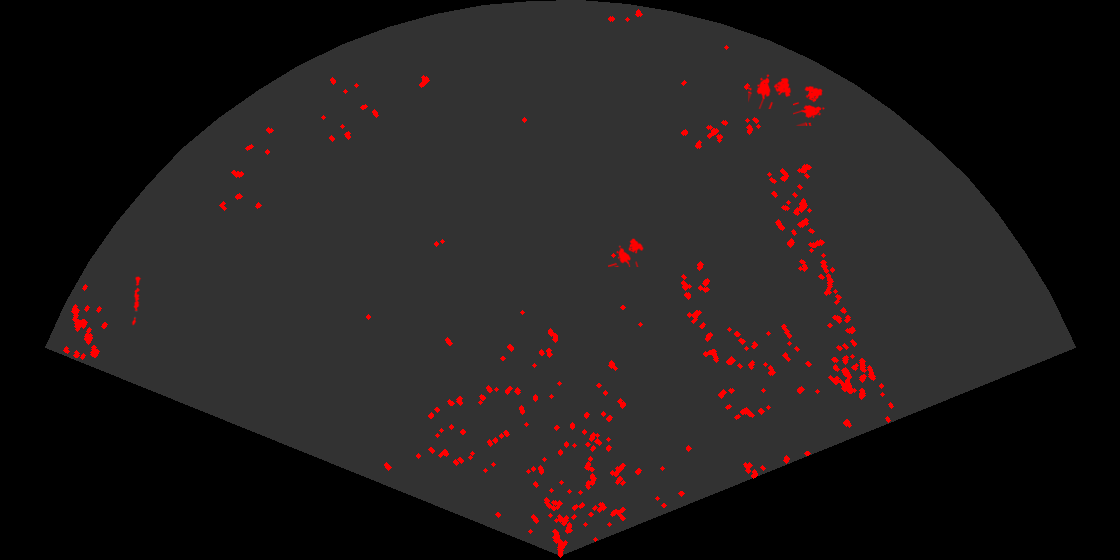cage: (748, 73, 793, 109), (793, 84, 826, 126), (608, 237, 645, 267)
chain: (130, 276, 143, 326)
